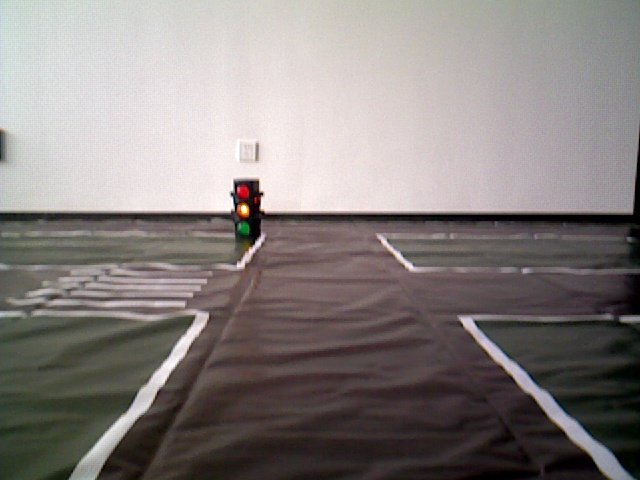yellow: (235, 180, 262, 239)
